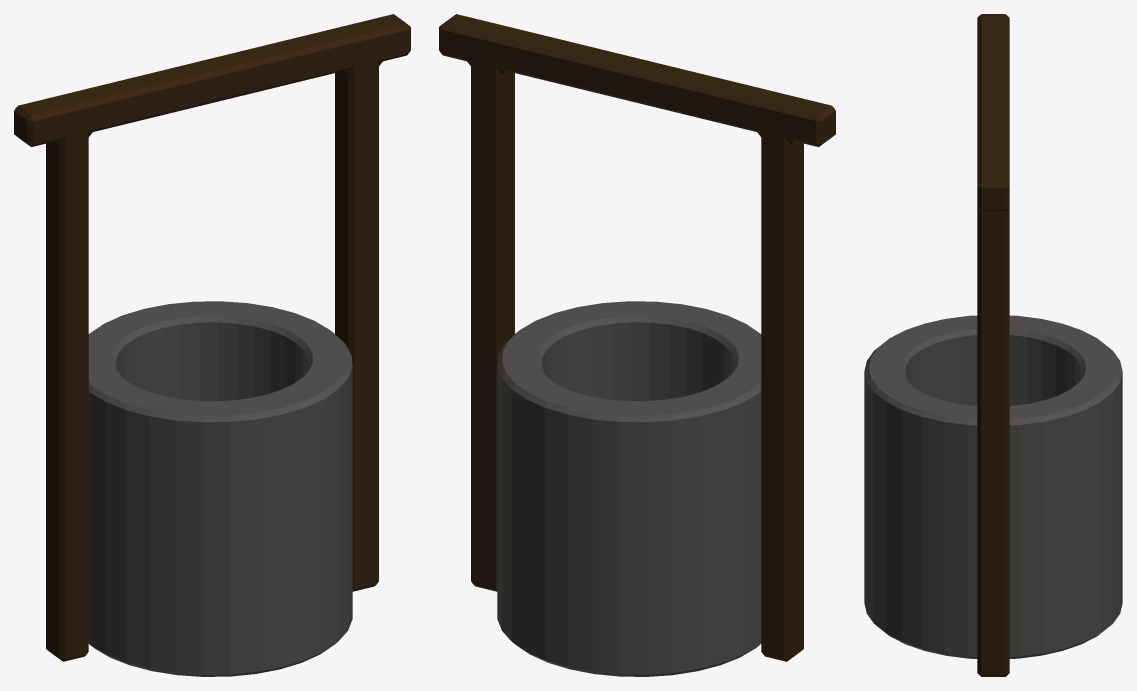
File: well well well.fbx
3 views of the same model, side by side, from view 1: azimuth 30°, elevation 25°; view 2: azimuth 150°, elevation 25°; view 3: azimuth 270°, elevation 25° (orthographic). The views are drawn at different scales.
Parts seen in each view (by area): view 1: Circle, Plane; view 2: Circle, Plane; view 3: Circle, Plane.
Boxes of the visible parts, left/top/right/bottom form: Circle: left=88, top=301, right=352, bottom=676; Plane: left=14, top=14, right=410, bottom=661; Circle: left=497, top=301, right=761, bottom=676; Plane: left=439, top=14, right=835, bottom=661; Circle: left=864, top=315, right=1122, bottom=658; Plane: left=977, top=14, right=1009, bottom=676.
Bounding box in the file's own units: 460 × 636 × 292.
